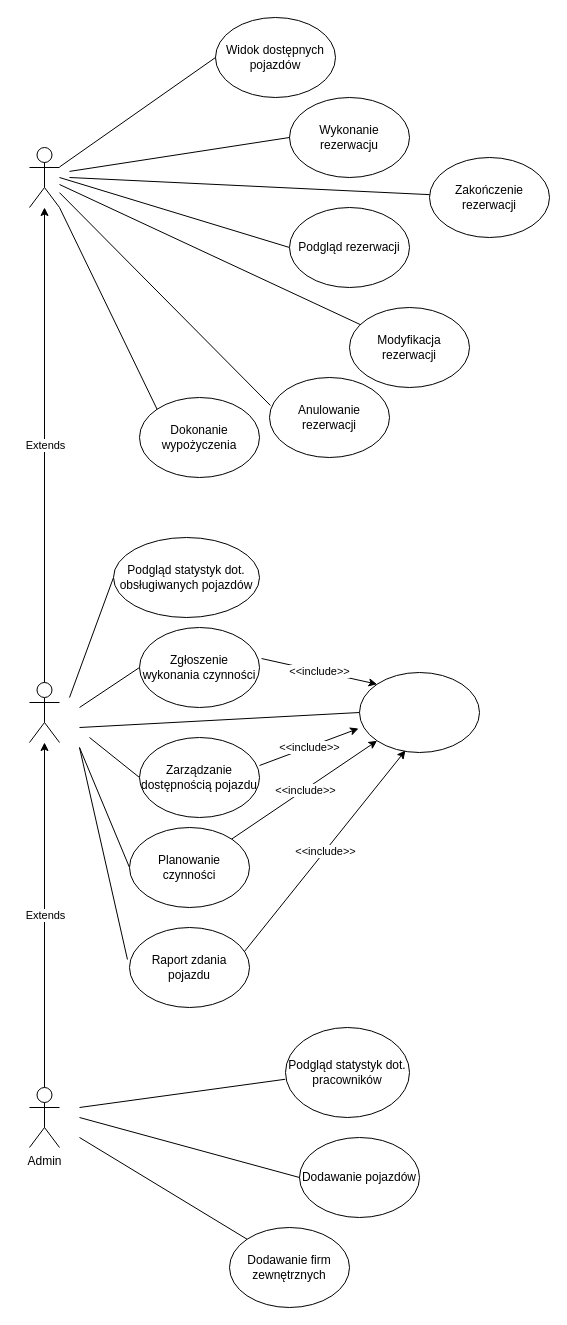
Image size: 567x1325. Some labels were removed from this diagram. The shapes that lost their labels are listed below. From the top down, each one's centre as x and y in pixels, then its label:
At point (44, 177): "Pracownik".
At point (44, 712): "Opiekun".
At point (419, 712): "Podgląd listy pojazdów".
